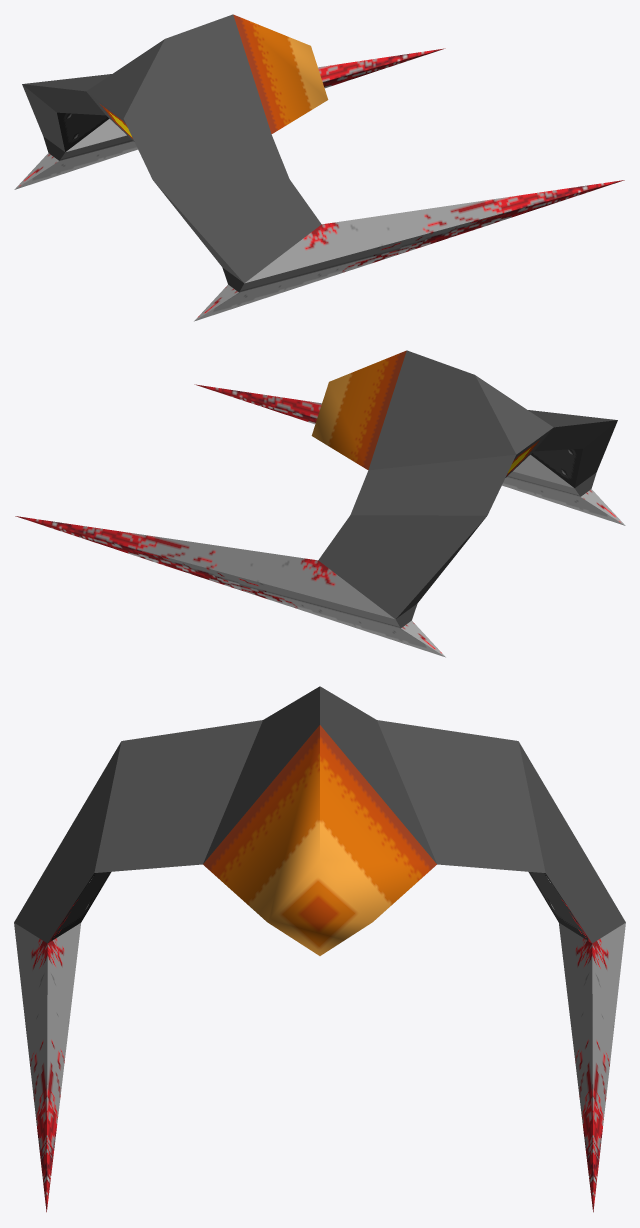
The model's file is Swarmer 1.fbx.
The picture shows the model from 3 angles, top to bottom: view 1: azimuth 30°, elevation 25°; view 2: azimuth 150°, elevation 25°; view 3: azimuth 270°, elevation 25°; orthographic projection. The views are drawn at different scales.
Parts seen in each view (by area): view 1: pCone3; view 2: pCone3; view 3: pCone3.
Boxes of the visible parts, <box> form: pCone3: <box>14,14,624,321</box>; pCone3: <box>15,350,625,657</box>; pCone3: <box>14,686,625,1212</box>.
Size of the model in its own units: 11.82 by 5.29 by 9.18.
